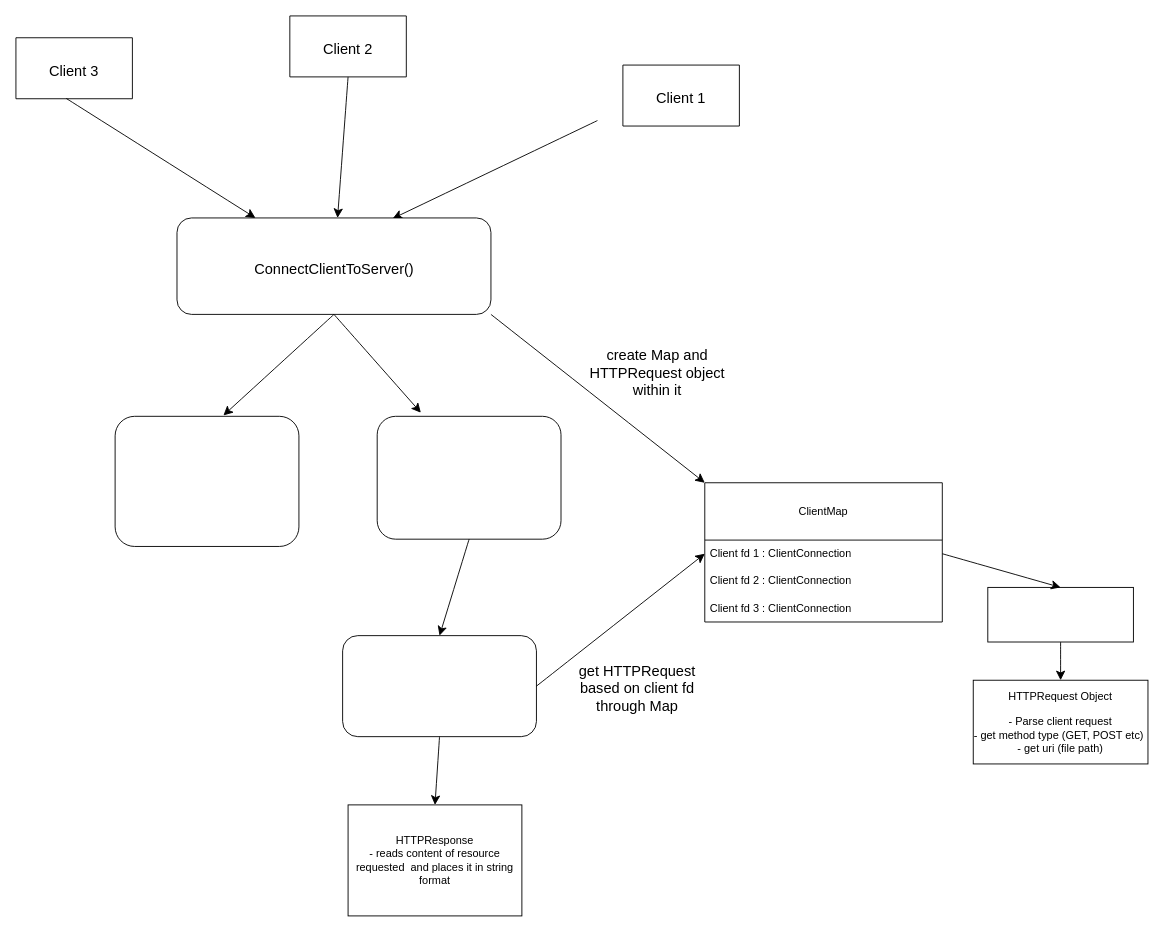
Image size: 1164x932. Some labels were removed from this diagram. Here are the shapes that lost their labels. From the top down, the centre of each, then its label:
At (x=206, y=480): "ClientWrite() (server -> client) POLLOUT (client is sending resource)".
At (x=468, y=477): "ClientRead() (client -> server) POLLIN (client asks for resource)".
At (x=1060, y=614): "ClientConnection Object ->HTTPRequest".
At (x=439, y=686): "Generate HTTPResponse based on request".
